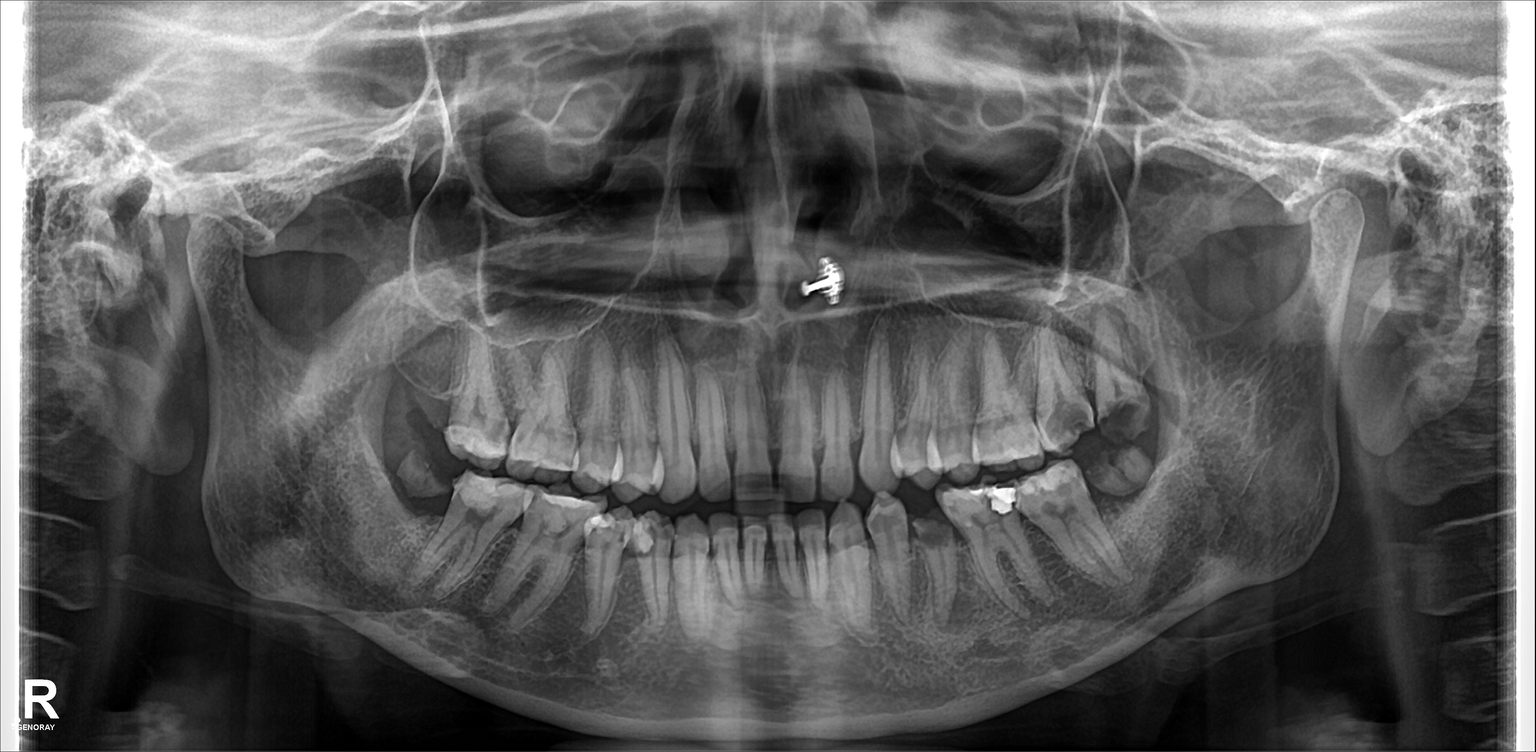Dental Caries: (1099, 400, 1140, 439), (1043, 400, 1079, 441), (916, 519, 955, 553)
Impacted Third Molar: (1093, 454, 1164, 512)
Missing Tooth: (400, 329, 442, 447)
Retained Root: (1089, 313, 1152, 435), (385, 456, 447, 509)
